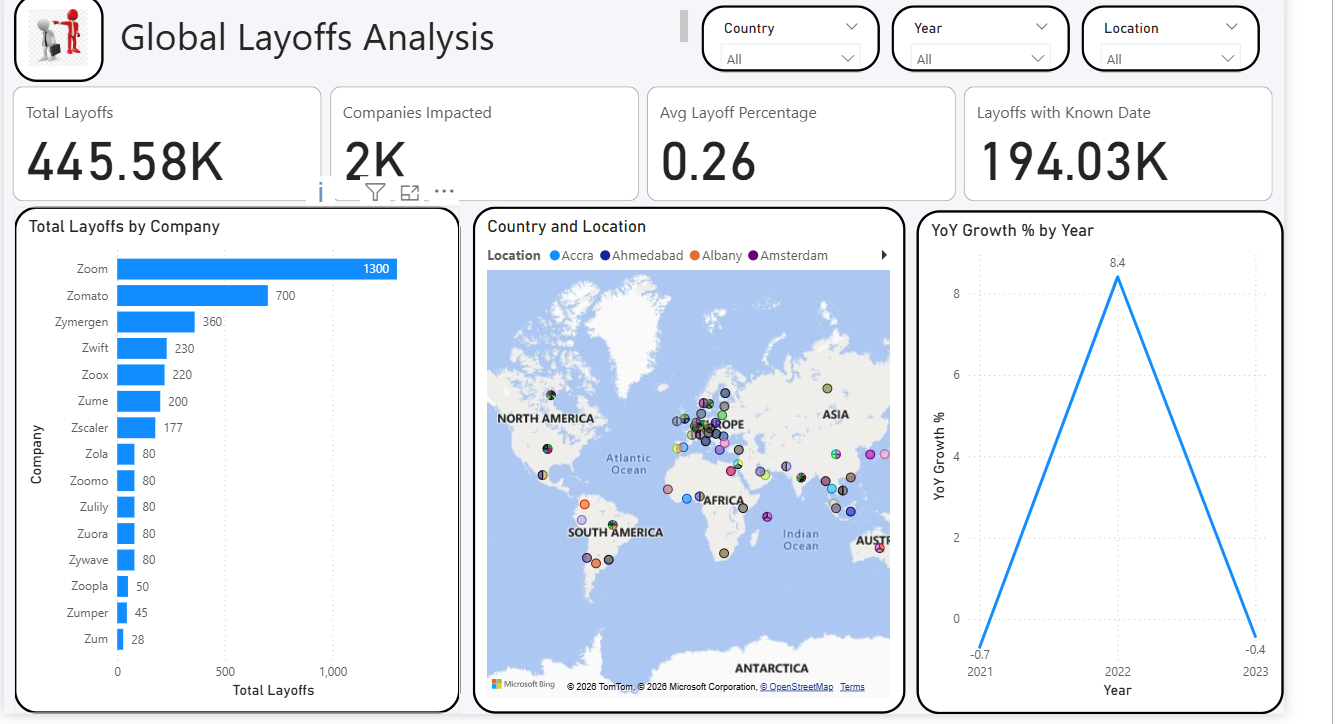

Layout of this report page (visuals, bound fields, positions):
{"tool":"powerbi","page":{"name":"DEEP ANALYSIS","canvas":[1280,720],"ordinal":1},"visuals":[{"type":"cardVisual","fields":{"Data":["layoffs.Total Layoffs","layoffs.Companies Affected","Avg(layoffs.Percentage_laid_off)","layoffs.Total Layoffs (With Date)"]},"box":[3.8,87.5,1271.2,125],"z":0},{"type":"textbox","box":[111,10.9,577.9,66.4],"z":1000},{"type":"image","box":[9.7,0,89.3,88.1],"z":2000},{"type":"slicer","fields":{"Values":["layoffs.Country"]},"box":[697.3,10.9,178.6,66.4],"z":3000},{"type":"slicer","fields":{"Values":["Date Table.Year"]},"box":[887.9,10.9,178.6,66.4],"z":4000},{"type":"slicer","fields":{"Values":["layoffs.Location"]},"box":[1077.4,10.9,178.6,66.4],"z":5000},{"type":"barChart","fields":{"Category":["layoffs.Company"],"Y":["layoffs.Total Layoffs"]},"box":[10,212.5,446.2,507.5],"z":6000},{"type":"lineChart","fields":{"Category":["Date Table.Year"],"Y":["layoffs.YoY Growth %"]},"box":[912.5,216.2,367.5,503.8],"z":7000},{"type":"map","fields":{"Series":["layoffs.Location"],"Category":["layoffs.Country"]},"box":[468.8,212.5,432.5,507.5],"z":8000}]}

Visuals, with their boxes in screenshot pixels (x1, y1, x2, y2):
cardVisual - layoffs.Total Layoffs x layoffs.Companies Affected: <bbox>7, 80, 1270, 204</bbox>
textbox: <bbox>114, 4, 688, 70</bbox>
image: <bbox>13, 0, 102, 81</bbox>
slicer - layoffs.Country: <bbox>696, 4, 874, 70</bbox>
slicer - Date Table.Year: <bbox>886, 4, 1063, 70</bbox>
slicer - layoffs.Location: <bbox>1074, 4, 1251, 70</bbox>
barChart - layoffs.Company x layoffs.Total Layoffs: <bbox>13, 204, 457, 708</bbox>
lineChart - Date Table.Year x layoffs.YoY Growth %: <bbox>910, 208, 1275, 708</bbox>
map - layoffs.Location x layoffs.Country: <bbox>469, 204, 899, 708</bbox>
